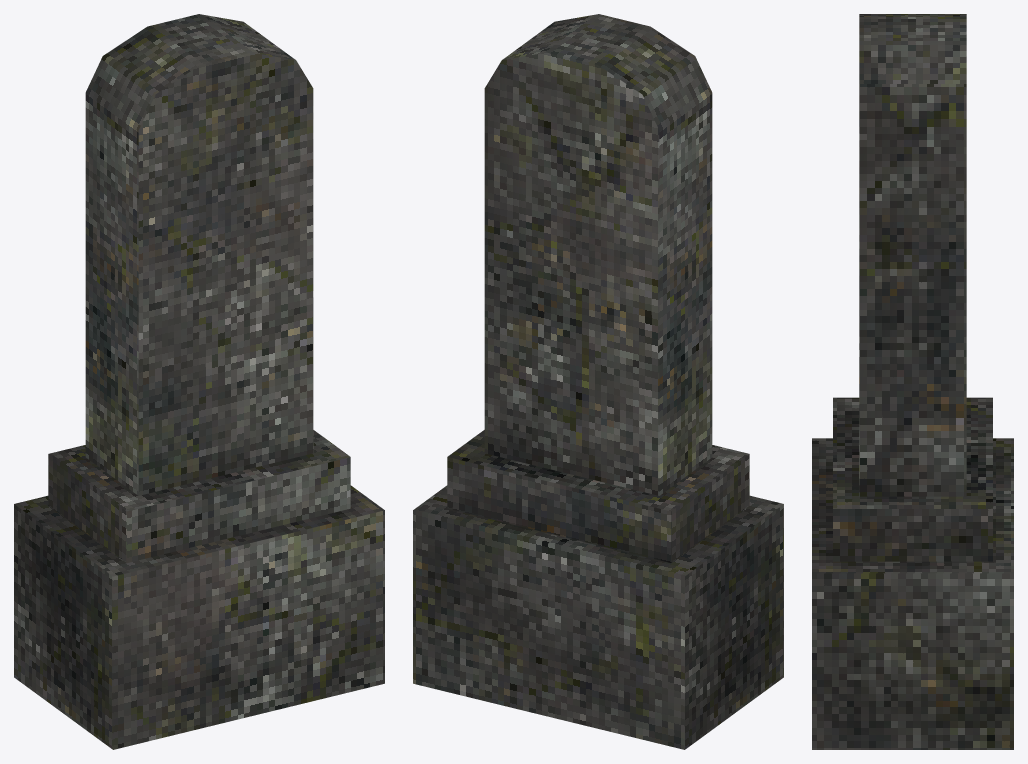
File: Gravestone_3.gltf
3 views of the same model, side by side, from view 1: azimuth 30°, elevation 25°; view 2: azimuth 150°, elevation 25°; view 3: azimuth 270°, elevation 25° (orthographic).
Parts seen in each view (by area): view 1: Gravestone_3; view 2: Gravestone_3; view 3: Gravestone_3.
Part boxes in pixels (x1,y1,x2,y2): Gravestone_3: (14,14,384,749); Gravestone_3: (413,14,783,749); Gravestone_3: (812,14,1013,749).
Bounding box in the file's own units: 2.32 × 5.22 × 1.46.
Materials: 1 (1 with a texture image).
